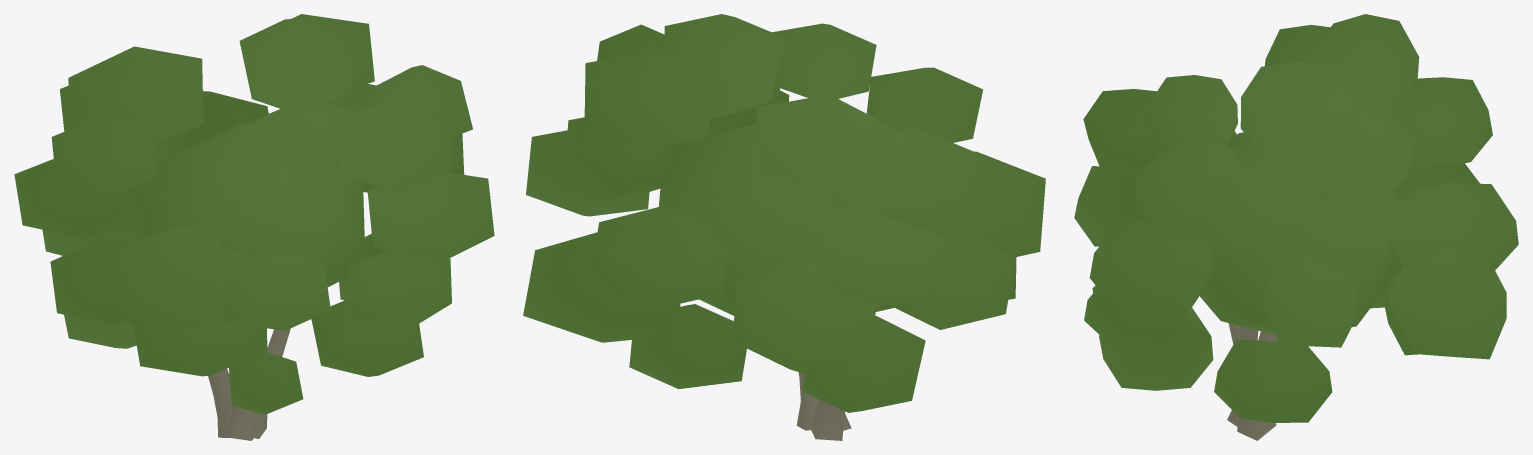
File: Blender_BayLaurel_1_Far.glb
3 renders of one model, left to right at view 1: azimuth 30°, elevation 25°; view 2: azimuth 150°, elevation 25°; view 3: azimuth 270°, elevation 25°, orthographic. The views are drawn at different scales.
Visible parts, largest first — view 1: Blender_BayLaurel_1_Far; view 2: Blender_BayLaurel_1_Far; view 3: Blender_BayLaurel_1_Far.
Part boxes in pixels (bbox=[...]): Blender_BayLaurel_1_Far: bbox=[14, 14, 494, 440]; Blender_BayLaurel_1_Far: bbox=[523, 14, 1045, 440]; Blender_BayLaurel_1_Far: bbox=[1074, 14, 1518, 440].
Size of the model in its own units: 15.8 by 13.74 by 13.64.
